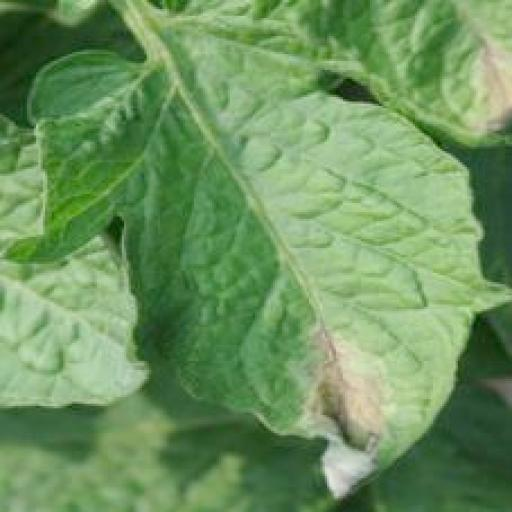disease_tomato: (22, 16, 512, 501)
